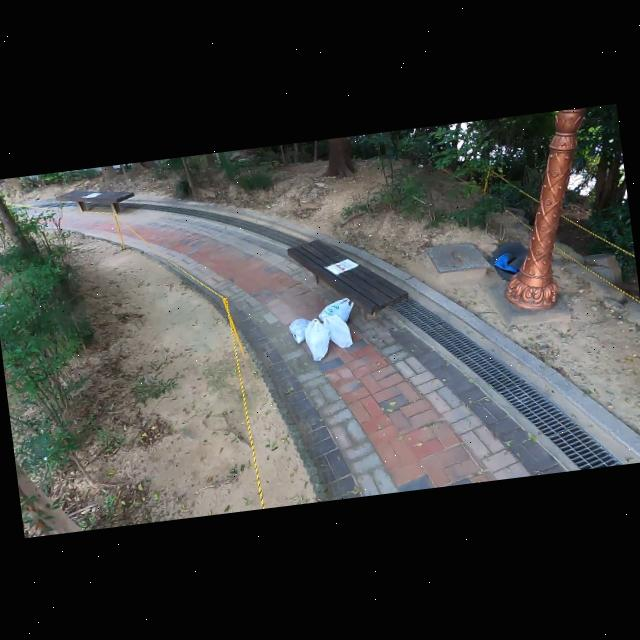trash: (486, 235, 533, 278), (320, 310, 359, 353), (298, 312, 332, 361), (314, 292, 358, 326), (284, 314, 316, 348)
